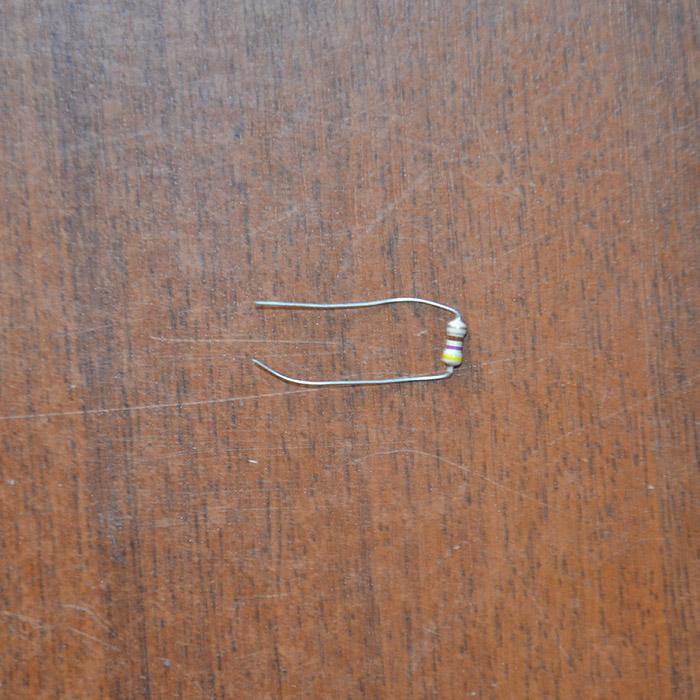resistor: (441, 317, 466, 367)
